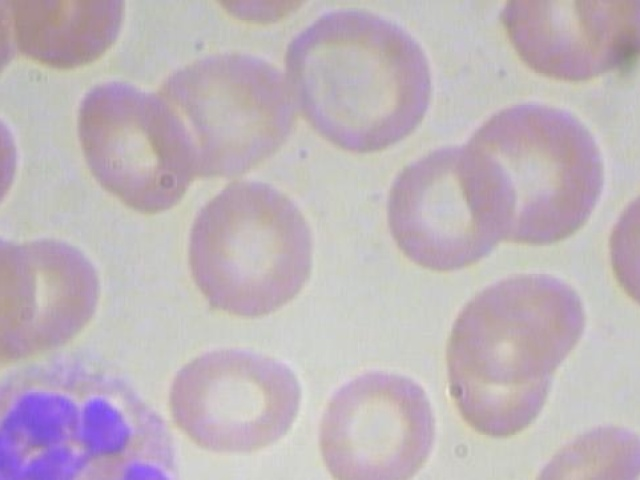RBC: (277, 0, 441, 161), (454, 96, 607, 253), (169, 175, 317, 317), (163, 40, 312, 181), (376, 139, 517, 276), (443, 264, 597, 381), (73, 69, 195, 211), (442, 286, 555, 438), (165, 340, 303, 462), (305, 367, 453, 480), (493, 0, 640, 91), (512, 404, 640, 480), (593, 179, 640, 321), (0, 221, 36, 353), (0, 92, 24, 232)
WBC: (0, 342, 204, 480)
